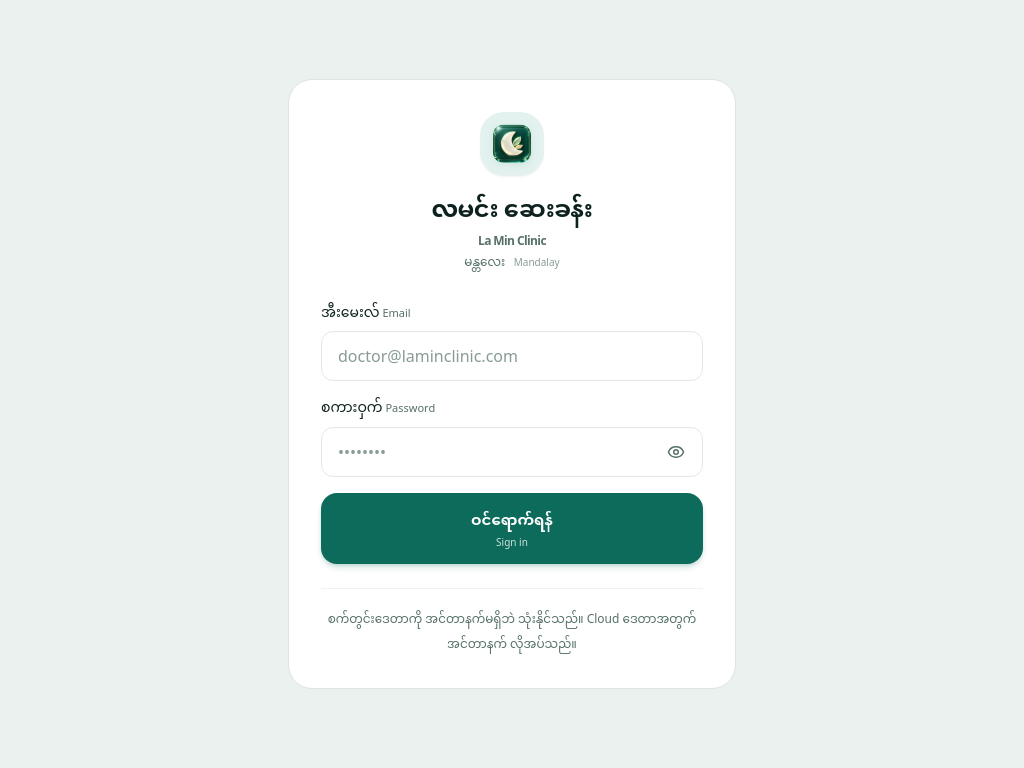
Test: App (local mode) › allows signed-in local staff to publish and read a text article
Type "doctor@example.com" into the field labelled "အီးမေးလ် Email". click: x=512, y=356
box: [321,332,703,382]
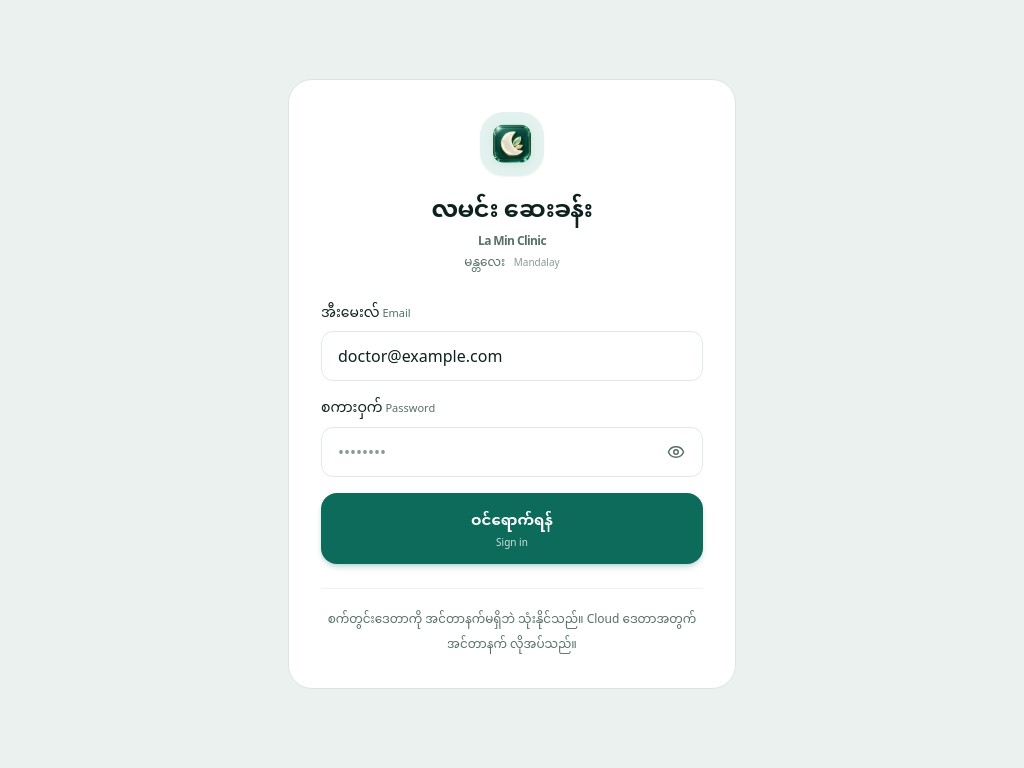
Type "local-demo" into the password field labelled "စကားဝှက် Password". click: x=512, y=452
box: [321,427,703,477]
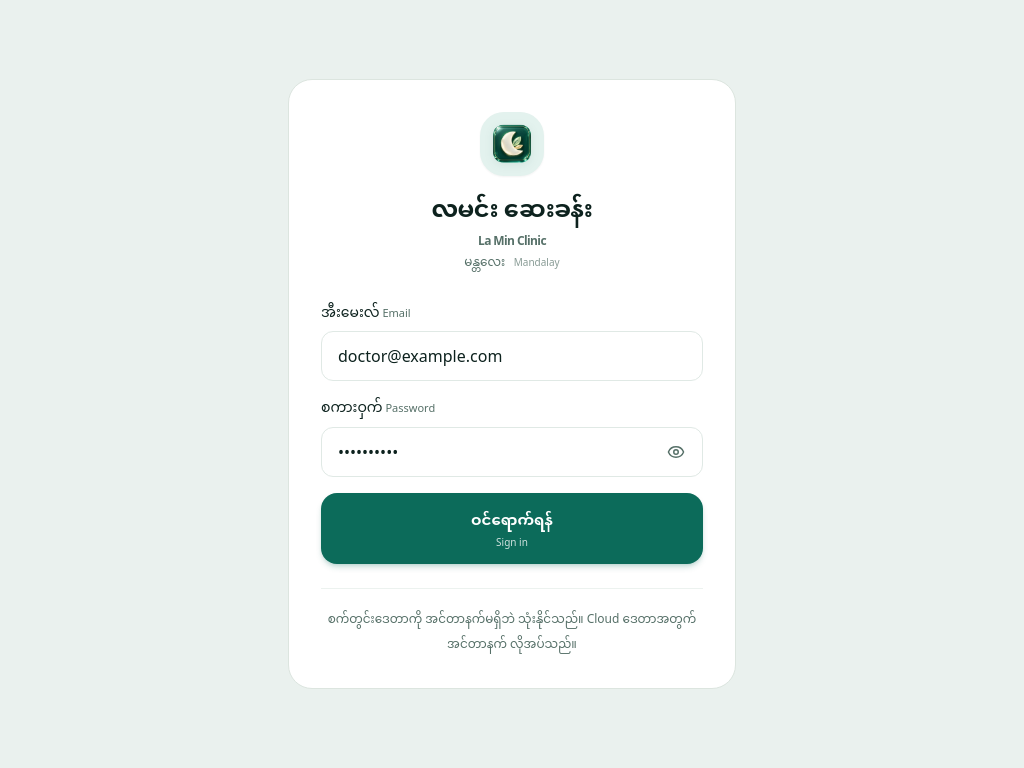
Click the button "ဝင်ရောက်ရန် Sign in". click: x=512, y=529
box: [321,493,703,564]
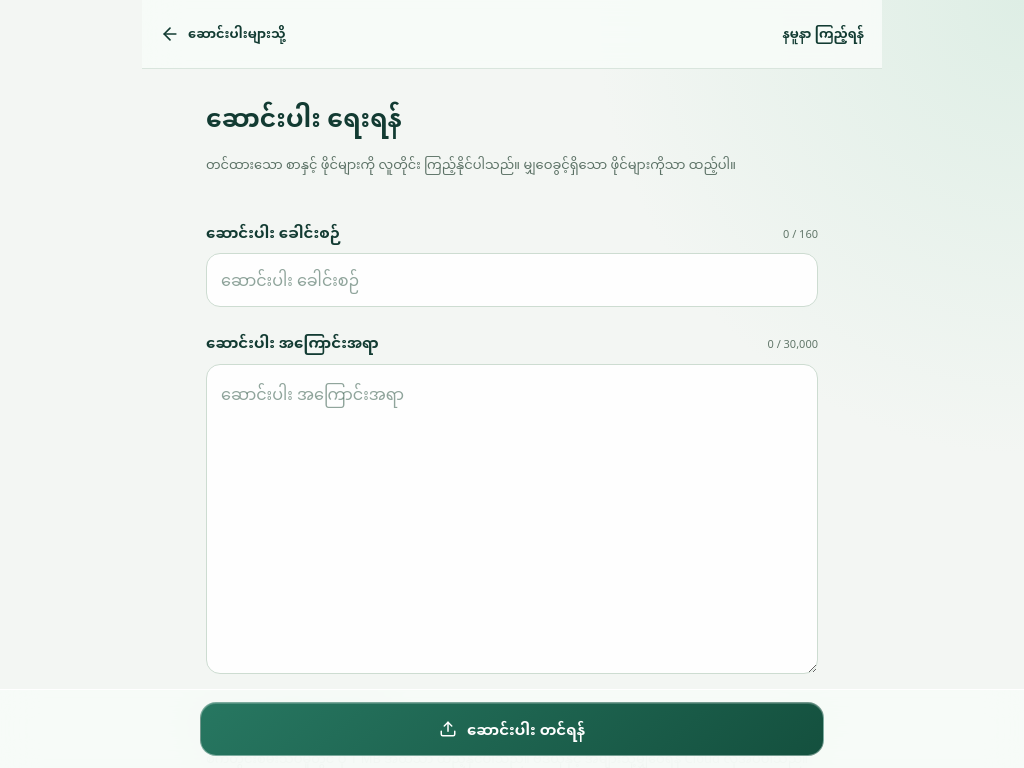
Type "A test clinic article" into the field labelled "ဆောင်းပါး ခေါင်းစဉ် 0 / 160". click: x=512, y=280
box: [206,253,818,307]
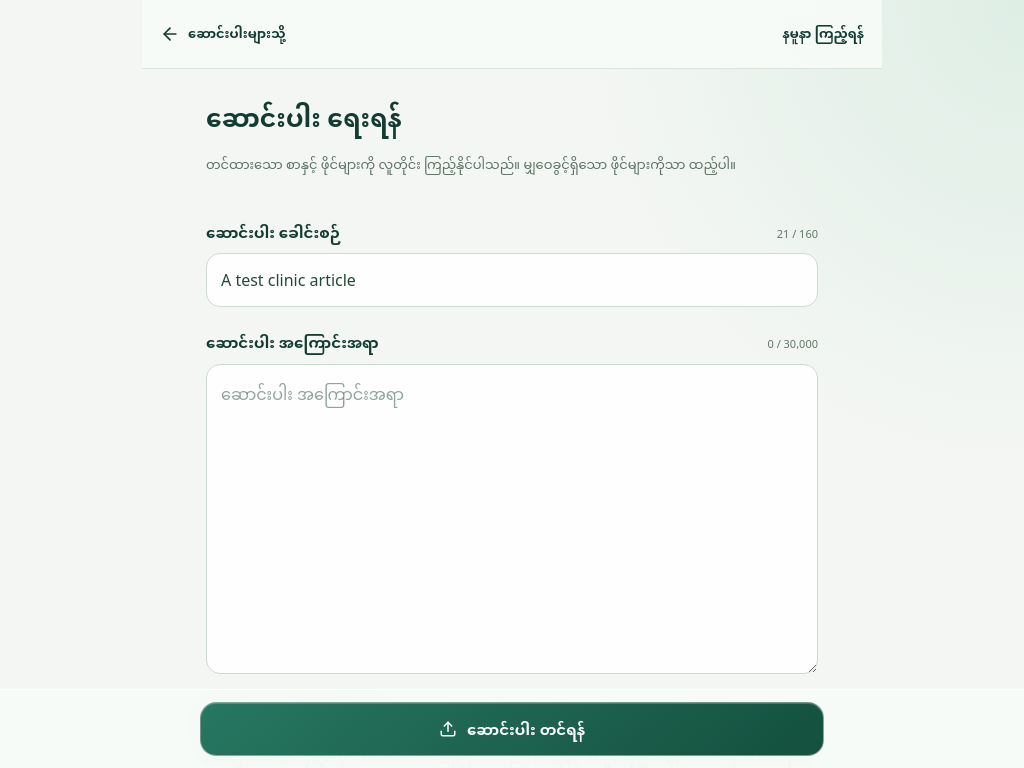
Type "A readable article body." into the text box labelled "ဆောင်းပါး အကြောင်းအရာ 0 / 30,000". click: x=512, y=519
box: [206,364,818,674]
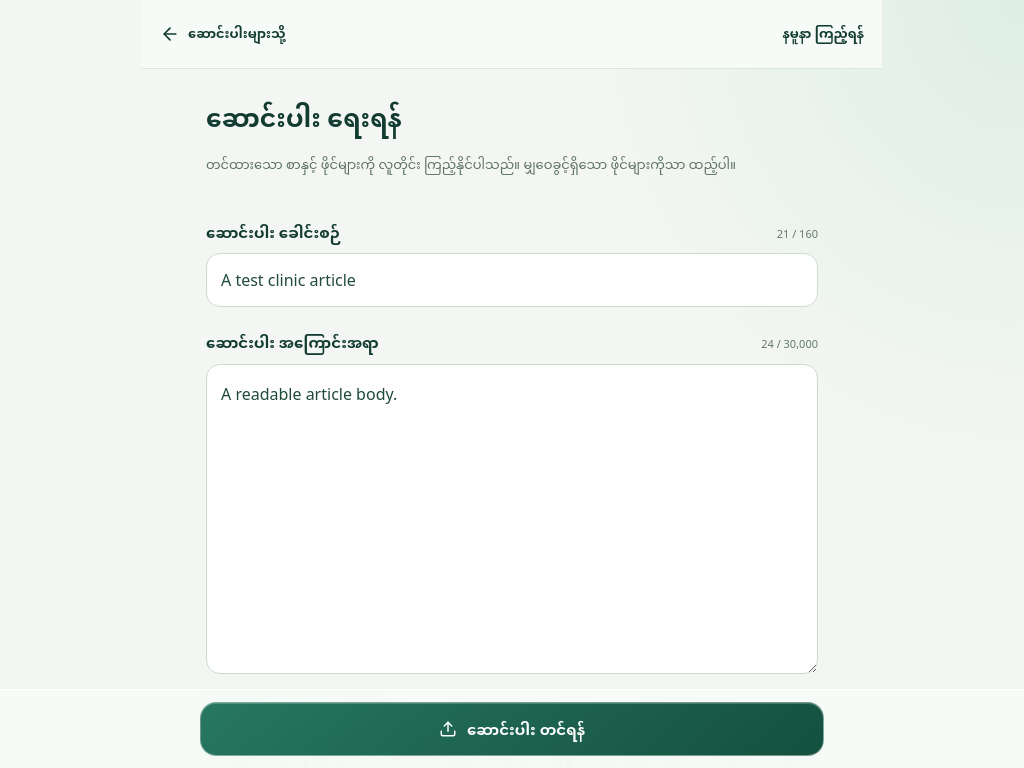
Click the button "ဆောင်းပါး တင်ရန်". click: x=512, y=729
box: [200,702,824,756]
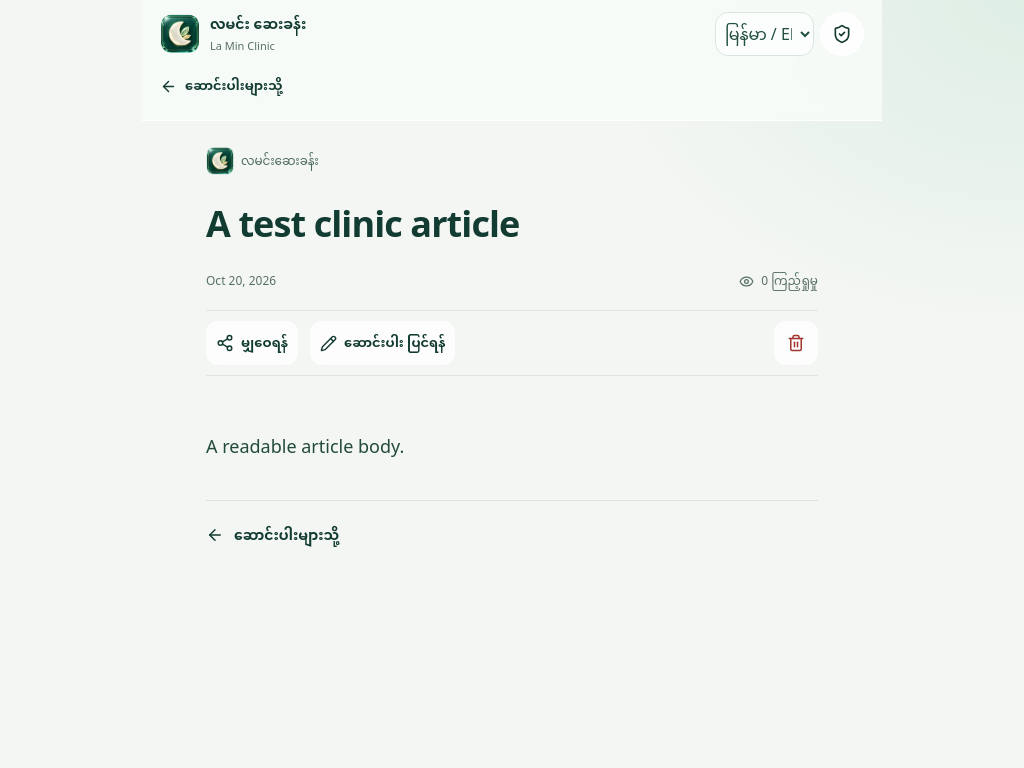
expect the heading "A test clinic article" is shown: met, box [206,199,520,248]
